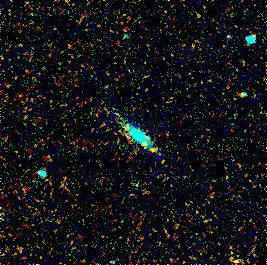star: (138, 136, 168, 166)
